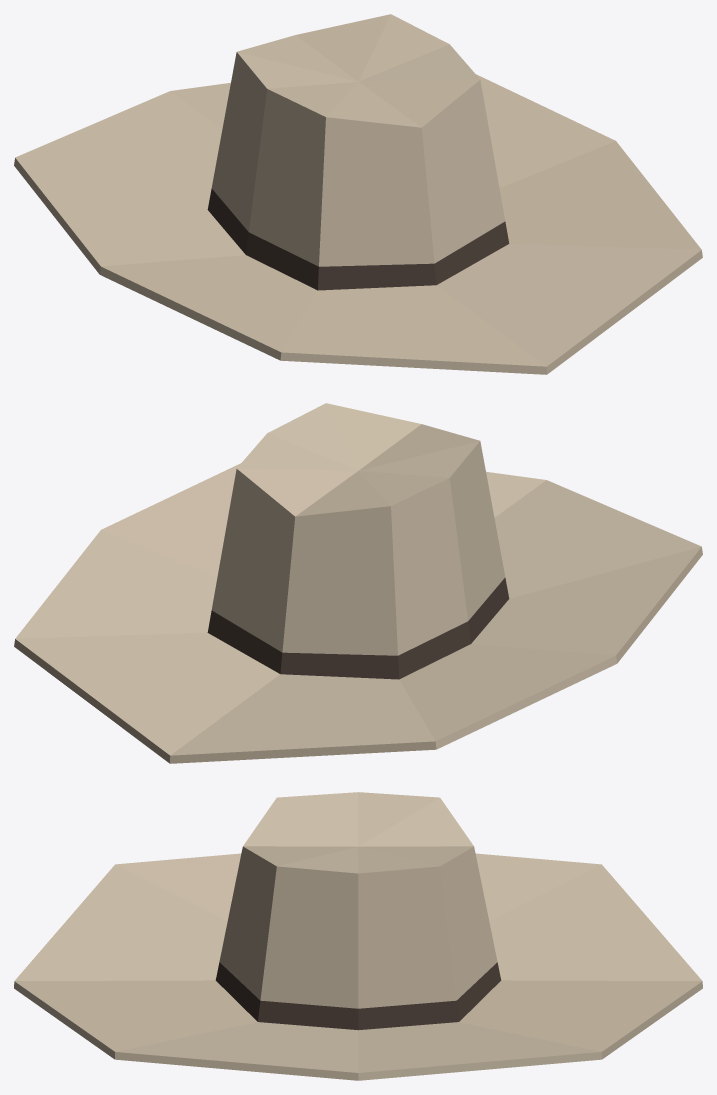
Rendered from Hat_1.fbx.
3 views of the same model, one above another, from view 1: azimuth 30°, elevation 25°; view 2: azimuth 150°, elevation 25°; view 3: azimuth 270°, elevation 25° (orthographic). The views are drawn at different scales.
Visible parts, largest first — view 1: Hat_1; view 2: Hat_1; view 3: Hat_1.
Part boxes in pixels (bbox=[...]): Hat_1: bbox=[14, 14, 702, 374]; Hat_1: bbox=[14, 403, 702, 763]; Hat_1: bbox=[14, 792, 702, 1080].
Size of the model in its own units: 54.41 by 68.64 by 17.21.
